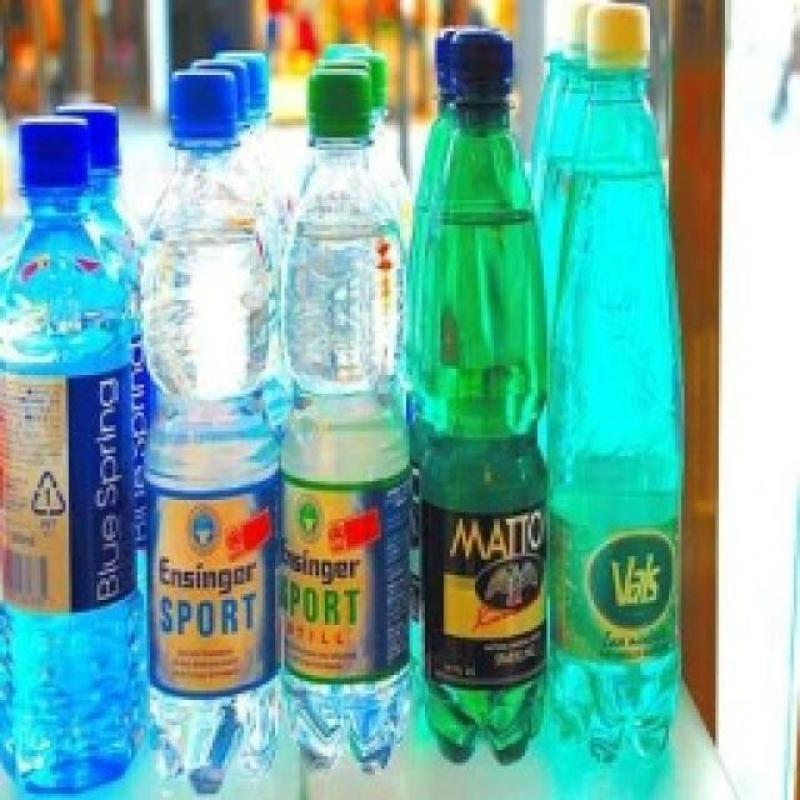botella: (412, 25, 556, 763), (141, 70, 287, 795), (552, 0, 687, 762), (0, 114, 144, 796), (282, 73, 418, 771), (54, 104, 152, 744), (187, 55, 278, 260), (330, 51, 408, 211), (222, 54, 276, 198)
